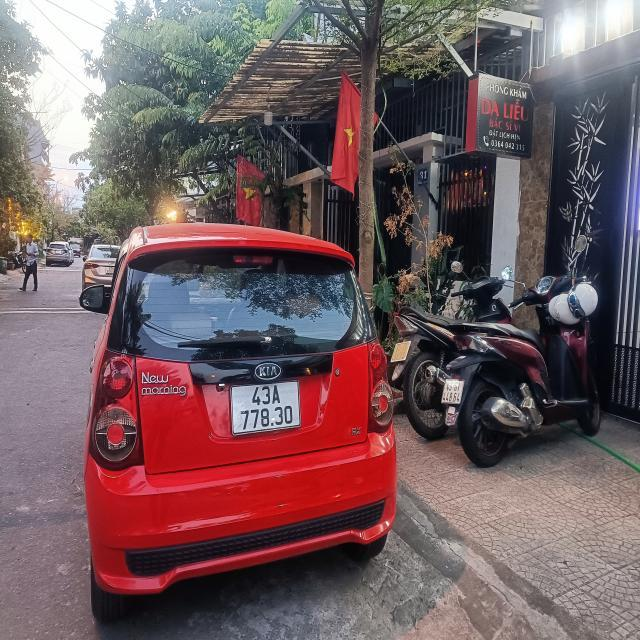car: (84, 224, 396, 604), (80, 236, 119, 302), (42, 236, 76, 272)
motorcycle: (402, 317, 550, 469)
plate: (224, 377, 305, 438), (436, 375, 468, 408)
